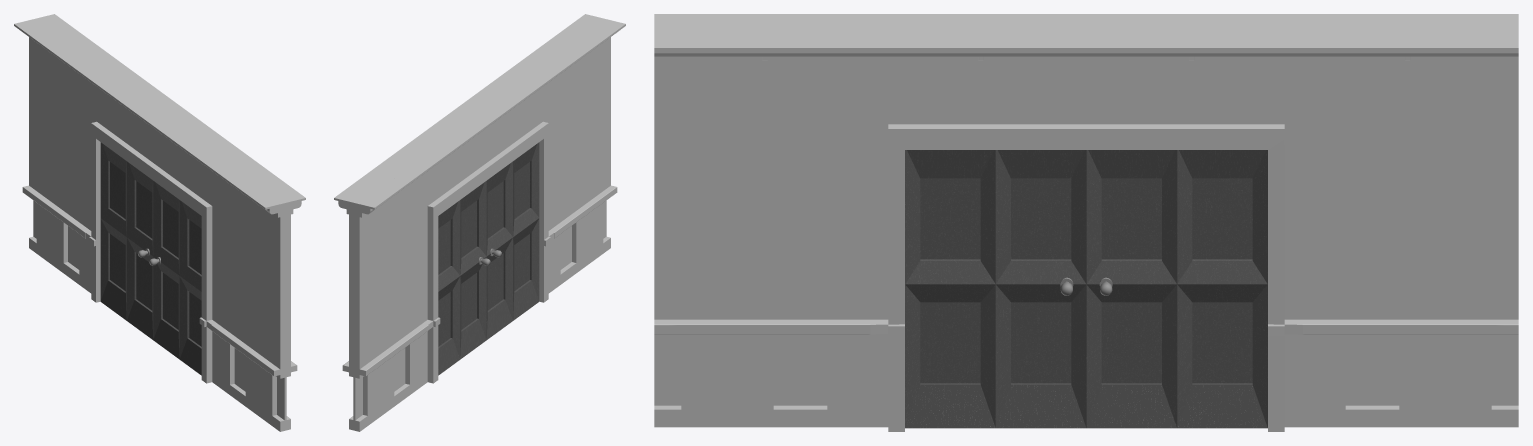
Rendered from DoubleDoorFront.fbx.
3 views of the same model, side by side, from view 1: azimuth 30°, elevation 25°; view 2: azimuth 150°, elevation 25°; view 3: azimuth 270°, elevation 25° (orthographic). The views are drawn at different scales.
Parts seen in each view (by area): view 1: DefaultHallStuctureSimiplified1_WallRight5, DefaultHallStuctureSimiplified1_WallRight3, LongDoubleDoors, Door7, Door6, FancyPart10, FancyPart13, DefaultHallStuctureSimiplified1_WallRight6, DefaultHallStuctureSimiplified1_WallRight4; view 2: DefaultHallStuctureSimiplified1_WallRight3, DefaultHallStuctureSimiplified1_WallRight5, LongDoubleDoors, Door6, Door7, FancyPart10, FancyPart13, DefaultHallStuctureSimiplified1_WallRight4, DefaultHallStuctureSimiplified1_WallRight6; view 3: DefaultHallStuctureSimiplified1_WallRight4, DefaultHallStuctureSimiplified1_WallRight6, LongDoubleDoors, Door6, Door7, FancyPart13, FancyPart10, DefaultHallStuctureSimiplified1_WallRight3, DefaultHallStuctureSimiplified1_WallRight5.
Boxes of the visible parts, box(x1,y1,x2,y2) form: DefaultHallStuctureSimiplified1_WallRight5: box(211, 157, 285, 431); DefaultHallStuctureSimiplified1_WallRight3: box(22, 19, 96, 293); LongDoubleDoors: box(86, 63, 227, 385); Door7: box(100, 142, 153, 339); Door6: box(153, 181, 201, 375); FancyPart10: box(14, 20, 280, 217); FancyPart13: box(40, 14, 305, 214); DefaultHallStuctureSimiplified1_WallRight6: box(223, 155, 297, 430); DefaultHallStuctureSimiplified1_WallRight4: box(35, 17, 101, 64); DefaultHallStuctureSimiplified1_WallRight3: box(354, 157, 428, 431); DefaultHallStuctureSimiplified1_WallRight5: box(543, 19, 617, 293); LongDoubleDoors: box(412, 63, 553, 385); Door6: box(486, 142, 539, 339); Door7: box(438, 181, 486, 375); FancyPart10: box(359, 20, 625, 217); FancyPart13: box(334, 14, 599, 214); DefaultHallStuctureSimiplified1_WallRight4: box(342, 155, 416, 430); DefaultHallStuctureSimiplified1_WallRight6: box(538, 17, 604, 64); DefaultHallStuctureSimiplified1_WallRight4: box(1302, 31, 1518, 427); DefaultHallStuctureSimiplified1_WallRight6: box(654, 31, 870, 427); LongDoubleDoors: box(870, 26, 1302, 431); Door6: box(905, 150, 1086, 428); Door7: box(1086, 150, 1267, 428); FancyPart13: box(654, 35, 1518, 60); FancyPart10: box(654, 14, 1518, 26); DefaultHallStuctureSimiplified1_WallRight3: box(1302, 26, 1518, 30); DefaultHallStuctureSimiplified1_WallRight5: box(654, 26, 870, 30).
Bounding box in the file's own units: 0.7473 × 4 × 8.
